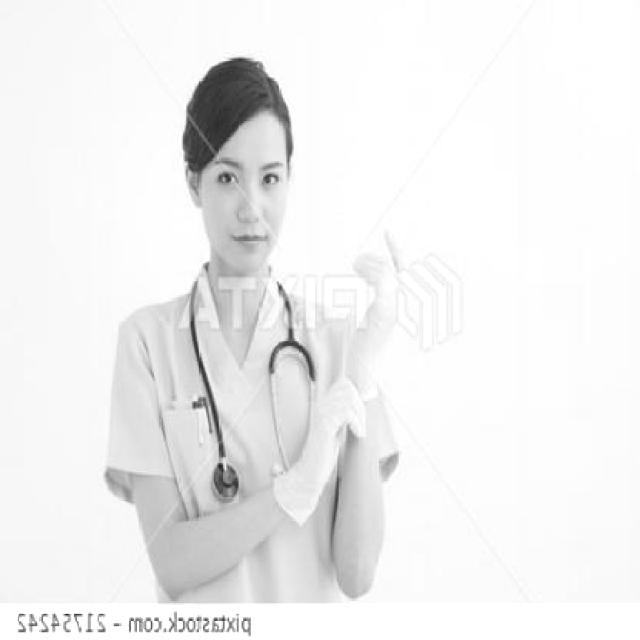face_nomask: (198, 140, 298, 271)
hand_glove: (289, 377, 366, 491), (348, 228, 408, 362)
head_nohelmet: (177, 55, 325, 151)
person: (92, 52, 456, 618)
